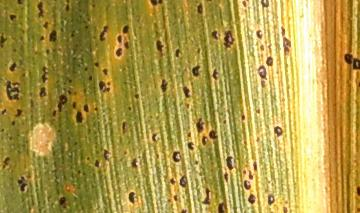tarspot: (4, 78, 22, 102), (279, 24, 291, 58), (222, 30, 236, 50), (16, 175, 28, 193), (57, 94, 69, 112), (256, 65, 270, 80), (98, 25, 110, 42), (97, 80, 112, 93), (195, 116, 205, 135), (155, 38, 165, 57), (201, 187, 211, 205), (223, 155, 234, 170), (127, 191, 138, 206), (159, 77, 169, 93), (1, 155, 11, 171), (272, 124, 283, 138), (1, 31, 9, 50), (41, 65, 49, 84), (178, 173, 188, 188), (181, 85, 191, 99), (74, 110, 84, 124), (352, 57, 360, 74), (48, 30, 58, 43), (211, 67, 219, 83), (102, 147, 110, 163), (266, 192, 275, 206), (191, 65, 201, 77), (208, 129, 218, 141), (171, 151, 181, 163), (242, 179, 252, 191), (36, 1, 43, 18), (38, 85, 47, 98), (343, 53, 353, 64), (210, 29, 219, 41), (247, 193, 256, 205), (115, 46, 123, 59), (8, 13, 18, 23), (13, 108, 23, 118), (174, 48, 183, 59), (8, 61, 17, 72), (266, 42, 273, 56), (265, 55, 273, 67), (130, 157, 138, 169), (196, 2, 203, 15), (222, 169, 229, 182), (58, 196, 67, 206), (101, 67, 110, 77), (255, 29, 263, 40), (121, 24, 129, 35), (82, 103, 90, 114), (217, 202, 225, 213), (150, 131, 157, 143), (247, 168, 254, 180), (148, 1, 164, 6), (200, 135, 208, 145), (186, 140, 194, 150), (64, 1, 71, 12), (122, 41, 130, 50), (121, 120, 127, 132), (116, 34, 123, 44), (355, 185, 360, 199), (93, 158, 100, 168), (42, 20, 49, 30), (184, 101, 191, 111), (169, 176, 176, 186), (260, 1, 269, 8), (69, 29, 76, 38), (44, 47, 51, 56), (251, 160, 258, 169), (258, 43, 265, 52), (133, 92, 140, 100), (51, 109, 58, 117), (254, 106, 261, 114), (254, 135, 261, 143), (121, 149, 129, 156), (240, 113, 246, 122), (179, 207, 188, 213), (90, 3, 97, 10), (221, 118, 228, 125), (281, 206, 288, 213), (1, 108, 7, 116), (10, 119, 16, 127), (87, 74, 93, 82), (38, 35, 46, 41), (66, 88, 72, 96), (186, 130, 192, 138), (193, 158, 199, 166), (71, 101, 76, 110), (241, 1, 247, 8), (126, 105, 132, 112), (93, 61, 99, 68), (72, 141, 79, 147), (7, 135, 13, 142), (241, 169, 247, 176), (172, 194, 178, 201), (83, 24, 89, 30), (16, 1, 23, 6), (83, 65, 88, 72), (92, 106, 99, 111), (67, 78, 72, 84), (85, 155, 89, 162), (356, 206, 360, 212), (1, 127, 5, 132)
